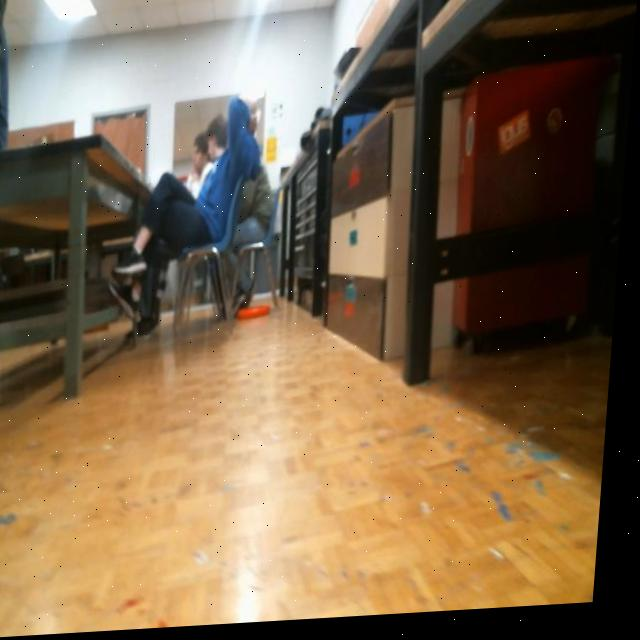note: (241, 307, 278, 324)
